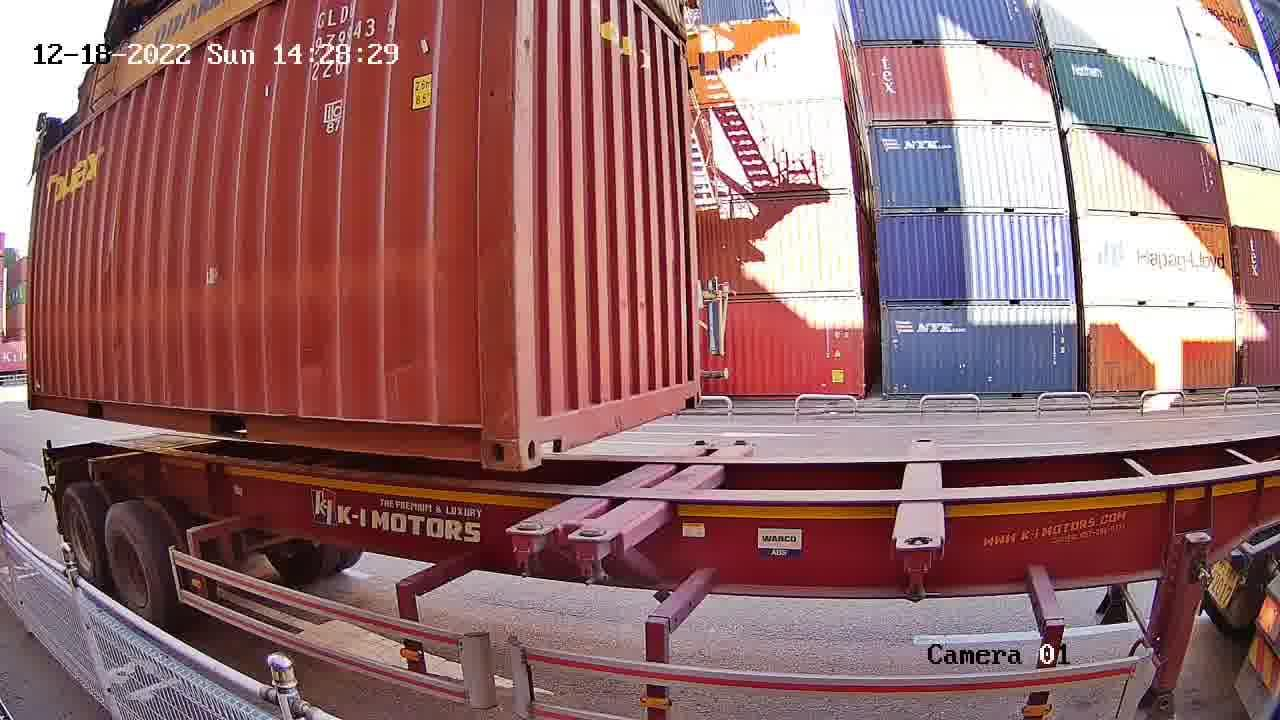Chassis: (570, 442, 753, 552), (507, 440, 711, 536)
Cone: (570, 521, 618, 586), (508, 514, 549, 571)
Hole_L: (518, 390, 576, 469)
Hole_R: (440, 386, 518, 470), (675, 358, 703, 412)
Tire: (104, 509, 160, 615), (60, 489, 99, 578)
